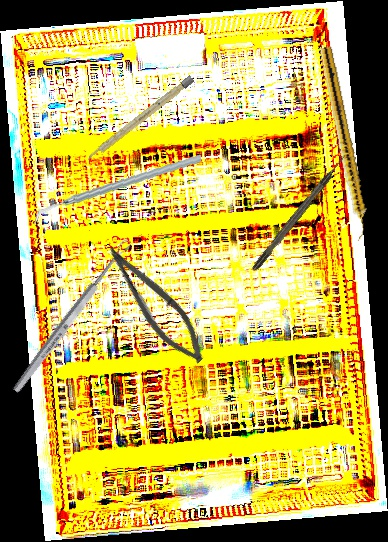Chopper: (33, 139, 202, 239)
Handpiece: (315, 45, 373, 242)
Hook Surgical: (250, 151, 350, 273)
Micro Scissor: (92, 238, 218, 372)
Scalpel Handle: (85, 75, 195, 163)
Surgical Spoon: (10, 237, 134, 395)
